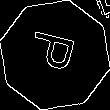P_E: (26, 31, 84, 79)
